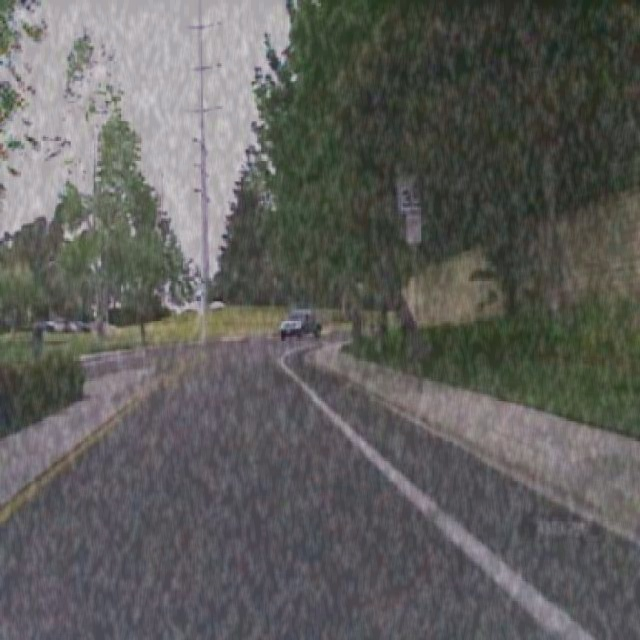speedLimit35: (397, 163, 425, 215)
